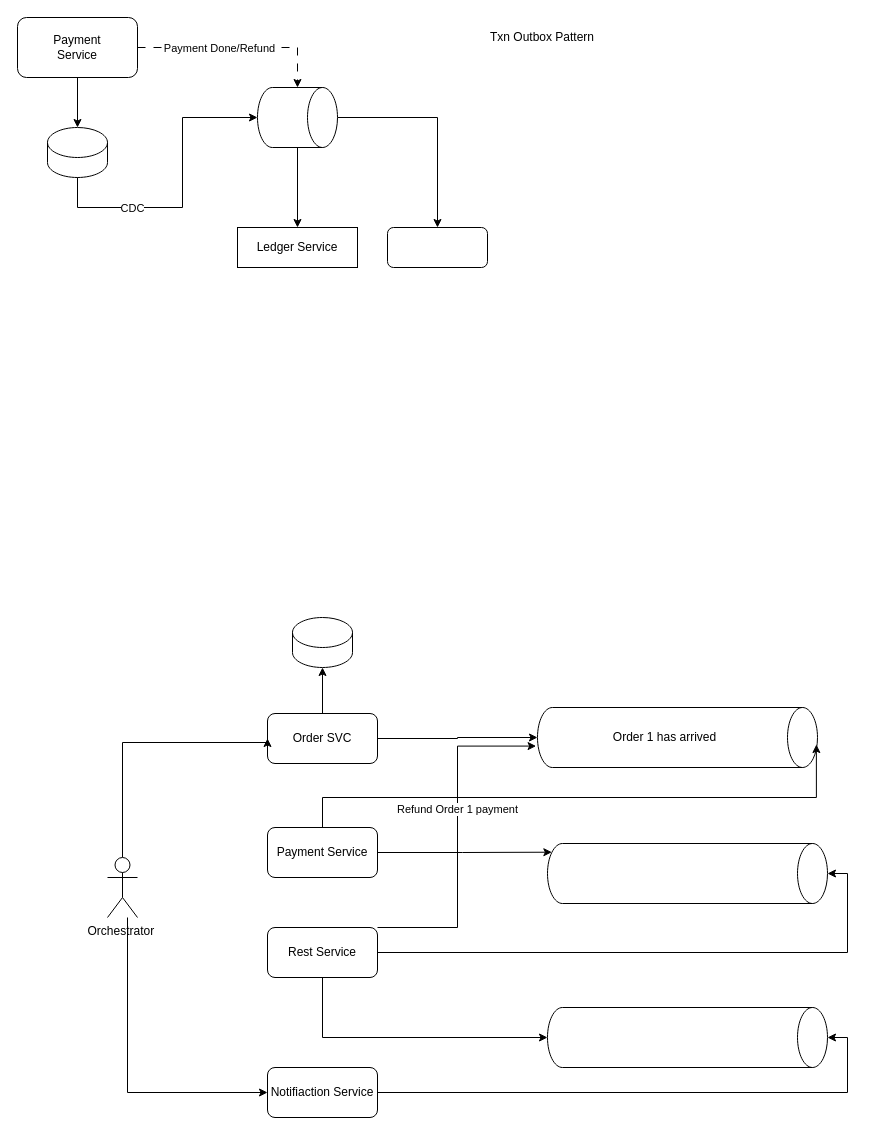
This 873x1135 diagram has some shape labels left out. Here are the shapes that lost their labels. From the top down, the centre of each, then its label:
At pixel 77 152: "pay DB".
At pixel 437 247: "Order Service".
At pixel 687 873: "Order 1 Payment Done".
At pixel 687 1037: "Restaurant Order placed".
